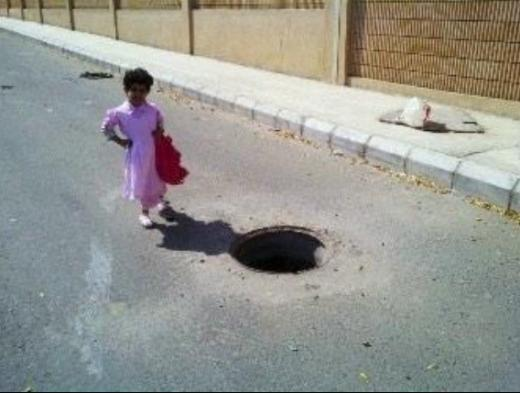open_manhole: (235, 224, 328, 272)
